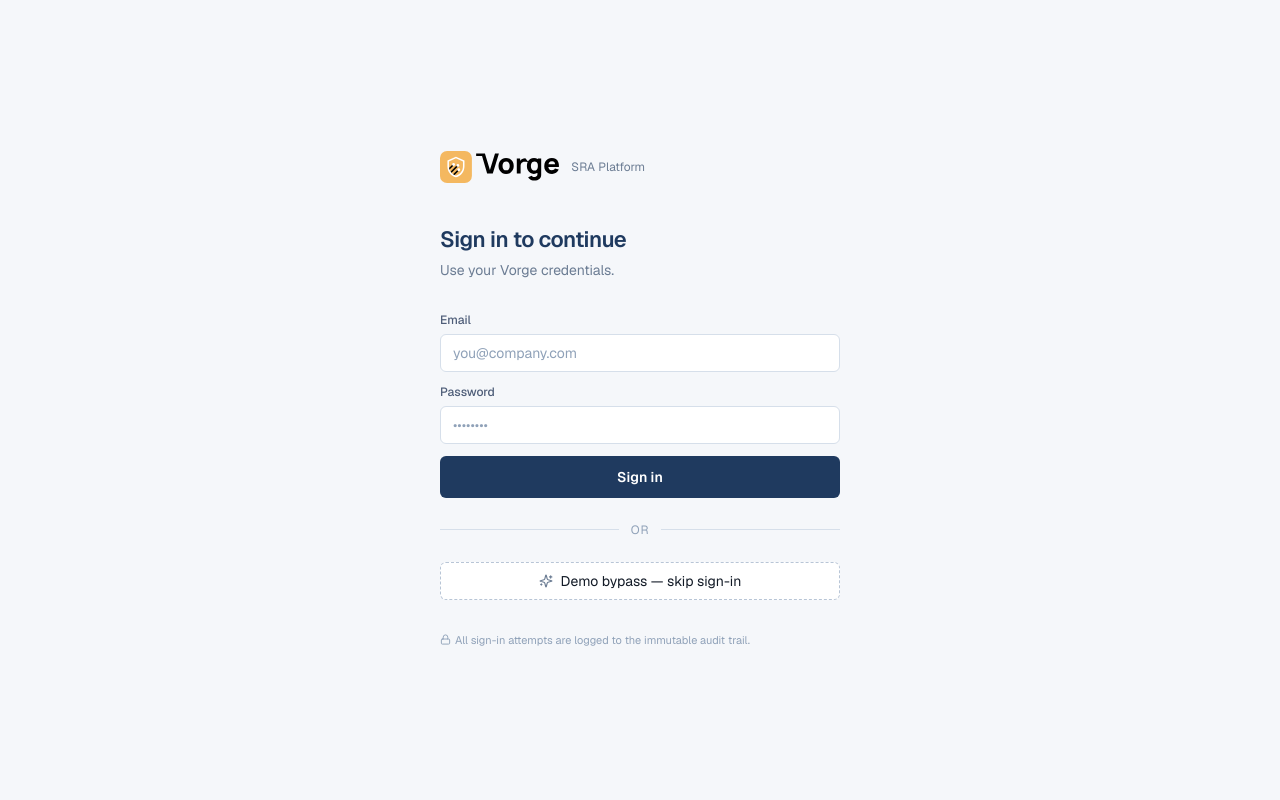
§Guest — demo hygiene (G-R5) › the demo role-picker shows exactly the six pre-existing roles, never Guest
Note: Advance from the credentials stage to the role picker.
Click the button "Demo bypass — skip sign-in" at (640, 581), box x1=440 y1=562 x2=840 y2=600
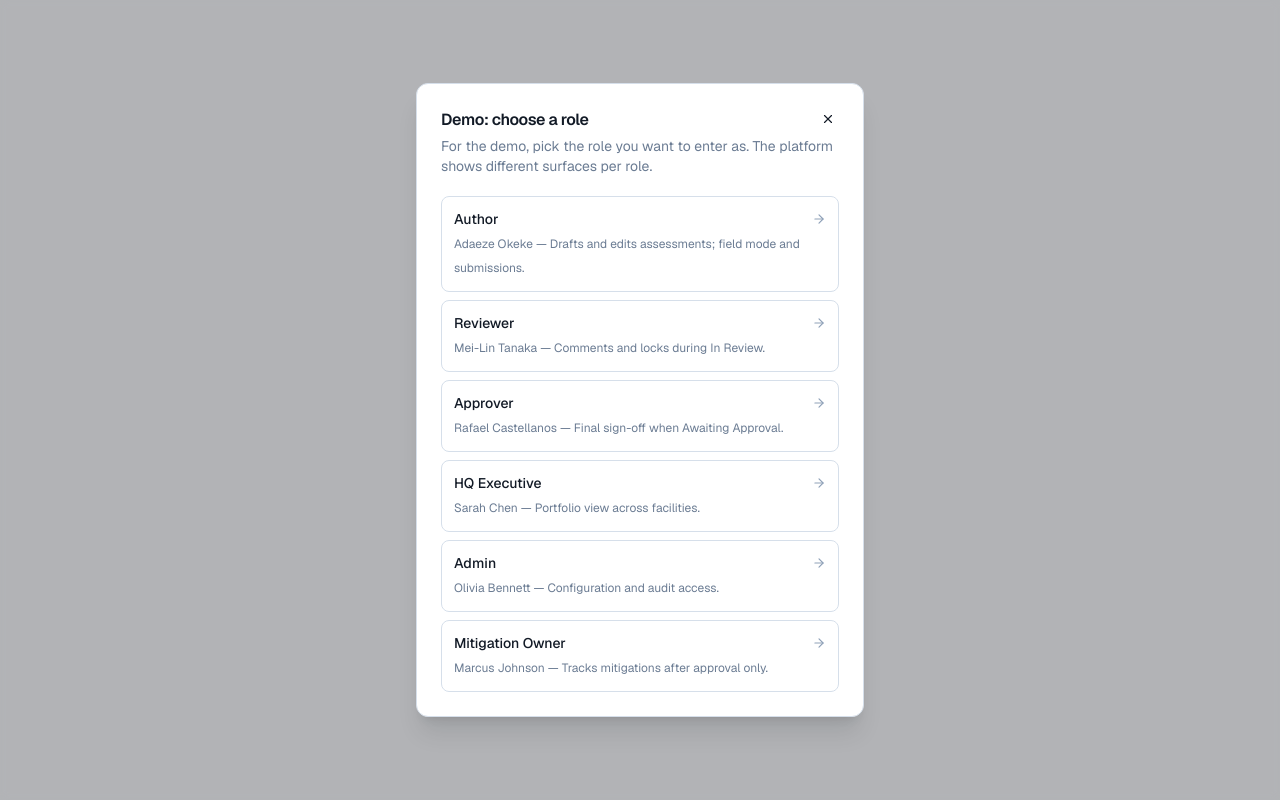
Check: the text "Author" is shown, box x1=454 y1=209 x2=498 y2=229
Check: the text "Reviewer" is shown, box x1=454 y1=313 x2=514 y2=333
Check: the text "Approver" is shown, box x1=454 y1=393 x2=514 y2=413
